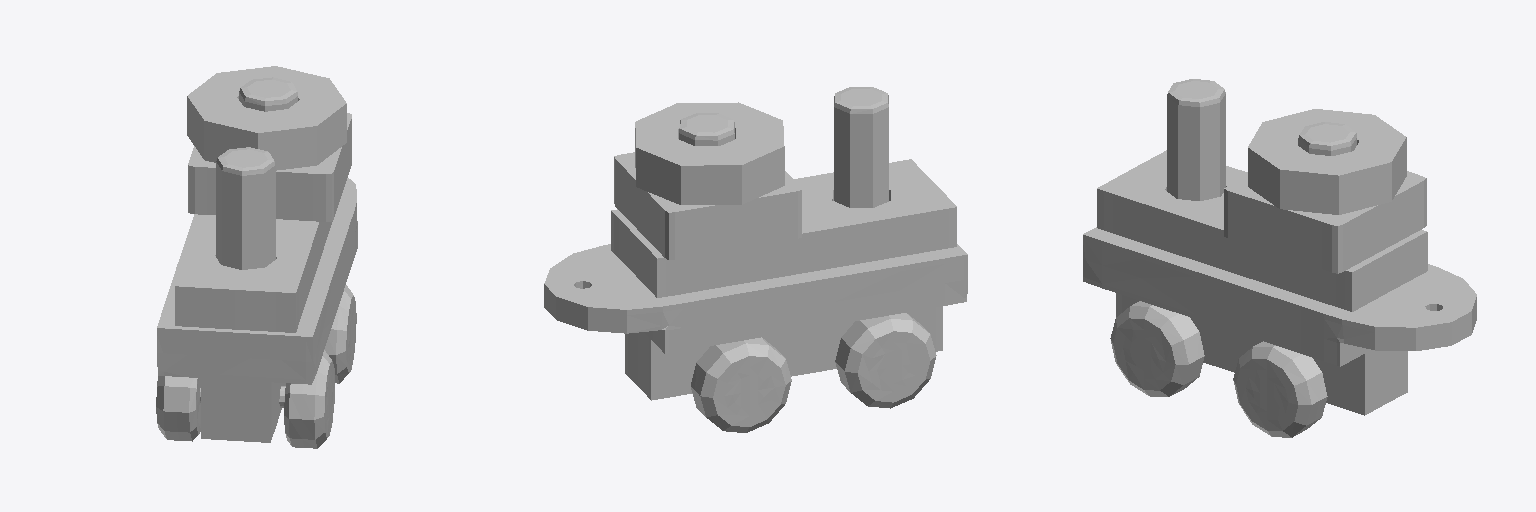
File: Locomotiva_de_Brinquedo.obj
3 views of the same model, side by side, from view 1: azimuth 30°, elevation 25°; view 2: azimuth 150°, elevation 25°; view 3: azimuth 270°, elevation 25° (orthographic).
Parts seen in each view (by area): view 1: Toy_Train:train_car1; view 2: Toy_Train:train_car1; view 3: Toy_Train:train_car1.
Boxes of the visible parts, box(x1,y1,x2,y2) form: Toy_Train:train_car1: box(156, 66, 357, 448); Toy_Train:train_car1: box(544, 87, 967, 432); Toy_Train:train_car1: box(1083, 79, 1476, 437).
Bounding box in the file's own units: 0.217 × 0.1952 × 0.2481.